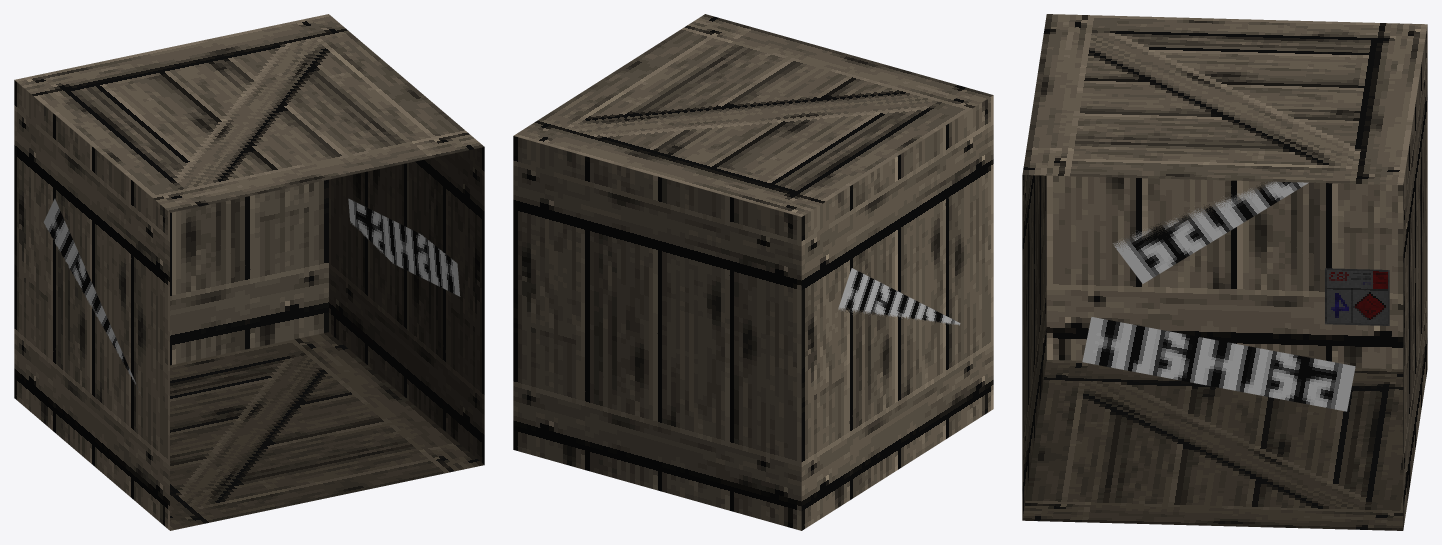
File: primary_033.glb
The picture shows the model from 3 angles, left to right: view 1: azimuth 30°, elevation 25°; view 2: azimuth 150°, elevation 25°; view 3: azimuth 270°, elevation 25°; orthographic projection. The views are drawn at different scales.
Parts seen in each view (by area): view 1: Object; view 2: Object; view 3: Object.
Boxes of the visible parts, box(x1,y1,x2,y2) form: Object: box(14, 14, 484, 530); Object: box(513, 14, 993, 530); Object: box(1022, 14, 1427, 530).
Bounding box in the file's own units: 1.01 × 0.9501 × 1.01.
Materials: 7 (7 with a texture image).
